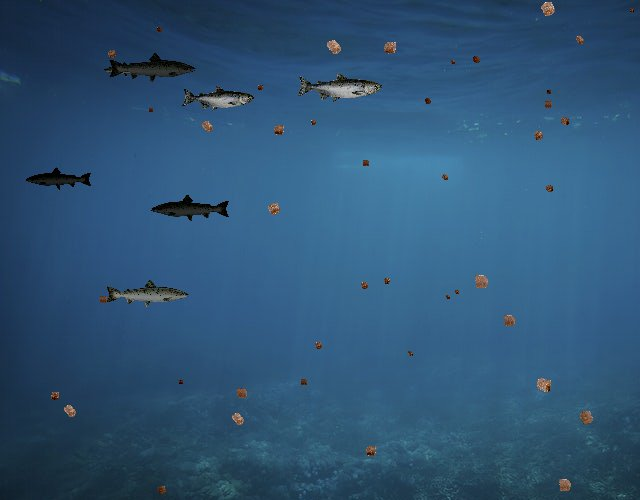Fish: (107, 52, 197, 84), (104, 278, 190, 309), (296, 72, 382, 103), (150, 194, 231, 223), (182, 86, 255, 112), (26, 167, 94, 191), (103, 62, 150, 79)
Pellet: (318, 32, 348, 62), (467, 267, 495, 295), (497, 308, 521, 332), (195, 114, 219, 138), (528, 125, 548, 145), (452, 286, 462, 296)
